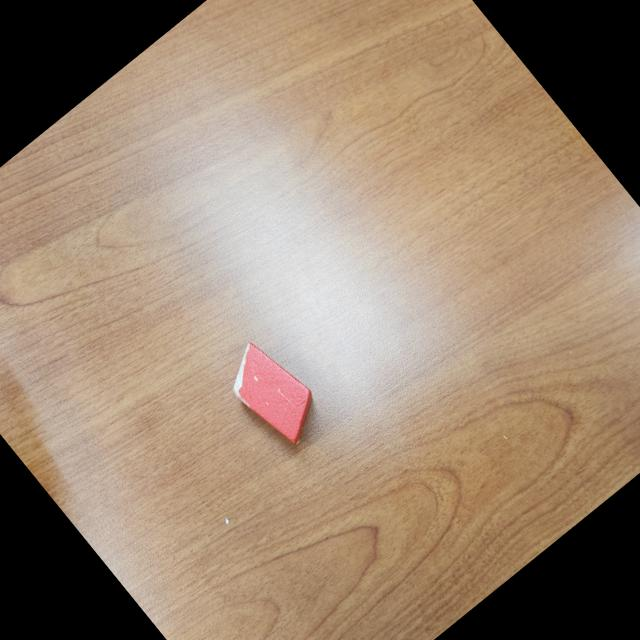broken: (214, 330, 332, 455)
